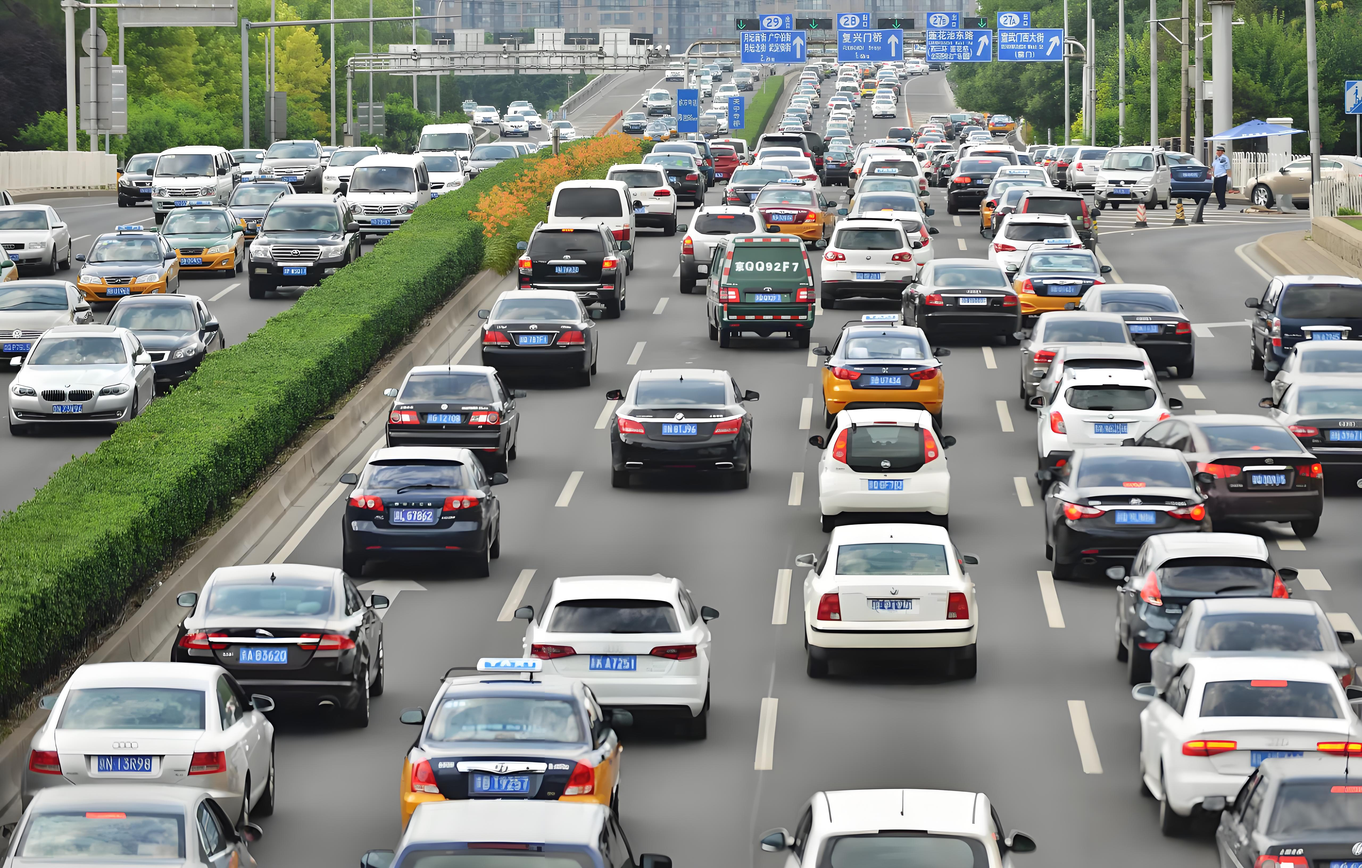bus: (803, 404, 970, 537), (683, 225, 830, 349), (897, 245, 1021, 360), (525, 214, 637, 336), (810, 304, 941, 403), (994, 183, 1084, 302), (1016, 311, 1125, 393), (678, 196, 780, 281), (548, 173, 643, 264), (846, 181, 925, 258), (823, 216, 891, 298), (854, 150, 915, 203)
car: (1130, 607, 1362, 835), (20, 664, 267, 868), (387, 669, 619, 868), (796, 507, 986, 682), (520, 584, 721, 724), (173, 578, 379, 700), (1147, 567, 1352, 688), (1033, 440, 1227, 558), (1036, 392, 1221, 515), (603, 360, 762, 487), (1128, 394, 1299, 491), (1205, 239, 1349, 350), (312, 399, 495, 478), (0, 270, 156, 362), (85, 276, 240, 368), (58, 220, 213, 312), (229, 191, 384, 283), (9, 322, 164, 413), (294, 149, 449, 240), (351, 376, 506, 452), (484, 303, 600, 383), (488, 278, 604, 347), (987, 185, 1079, 270), (150, 148, 244, 230), (930, 134, 1034, 204), (5, 203, 82, 280), (1090, 145, 1177, 212), (427, 114, 512, 181), (605, 161, 684, 231), (995, 150, 1067, 217), (253, 124, 321, 189), (302, 140, 381, 192), (418, 145, 469, 202)
